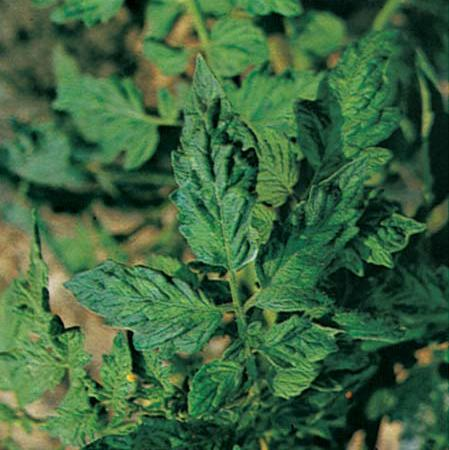Tomato leaf mosaic virus: (170, 60, 269, 266), (249, 159, 369, 315), (297, 30, 410, 177), (72, 256, 221, 352), (244, 317, 347, 360), (189, 351, 251, 415)
